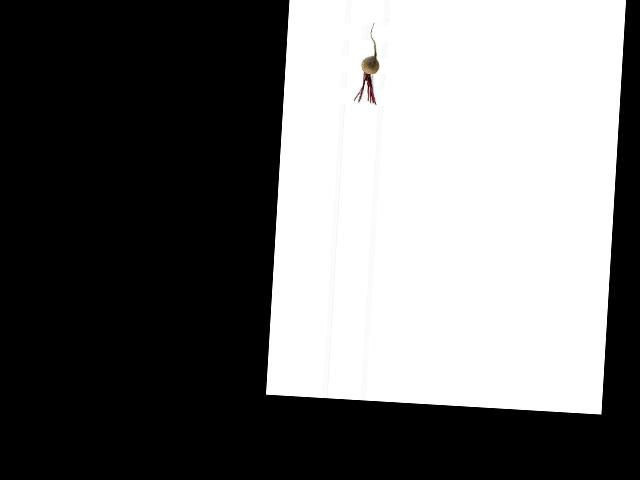beet: (354, 21, 381, 104)
